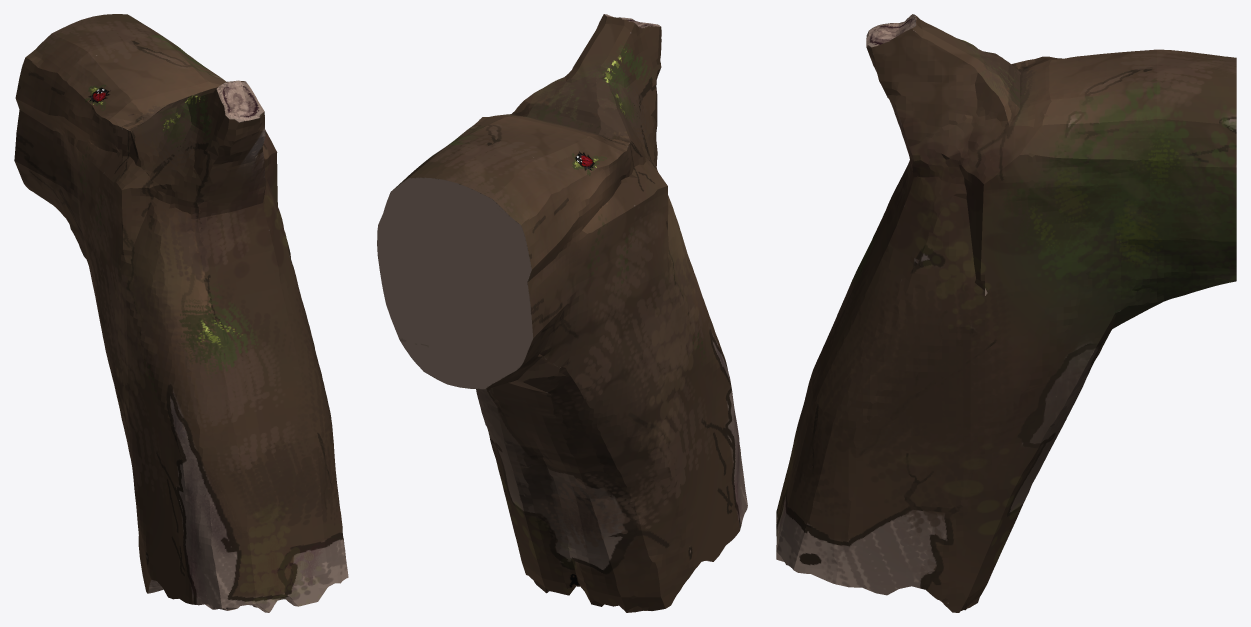
Rendered from GBody.fbx.
3 views of the same model, side by side, from view 1: azimuth 30°, elevation 25°; view 2: azimuth 150°, elevation 25°; view 3: azimuth 270°, elevation 25° (orthographic). The views are drawn at different scales.
Visible parts, largest first — view 1: pistol barrel.008; view 2: pistol barrel.008; view 3: pistol barrel.008.
Part boxes in pixels (x1,y1,x2,y2): pistol barrel.008: (14, 14, 348, 612); pistol barrel.008: (377, 14, 747, 612); pistol barrel.008: (776, 14, 1236, 612).
Bounding box in the file's own units: 117 × 363 × 268.
